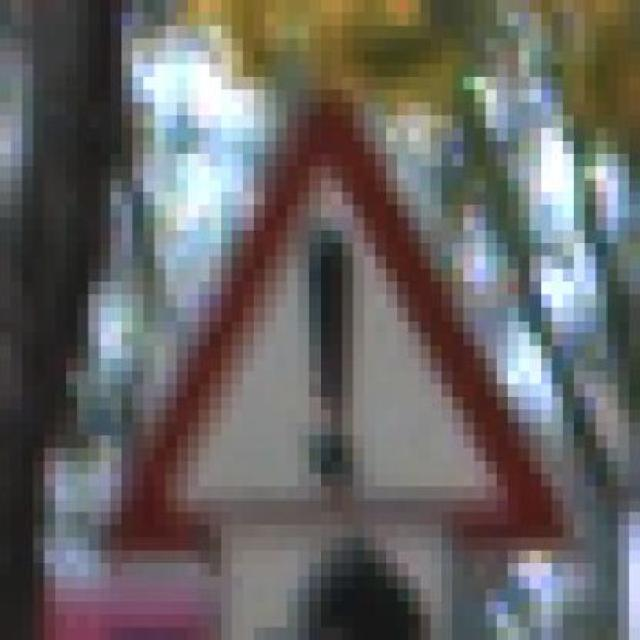Attention Please-: (61, 86, 602, 586)
